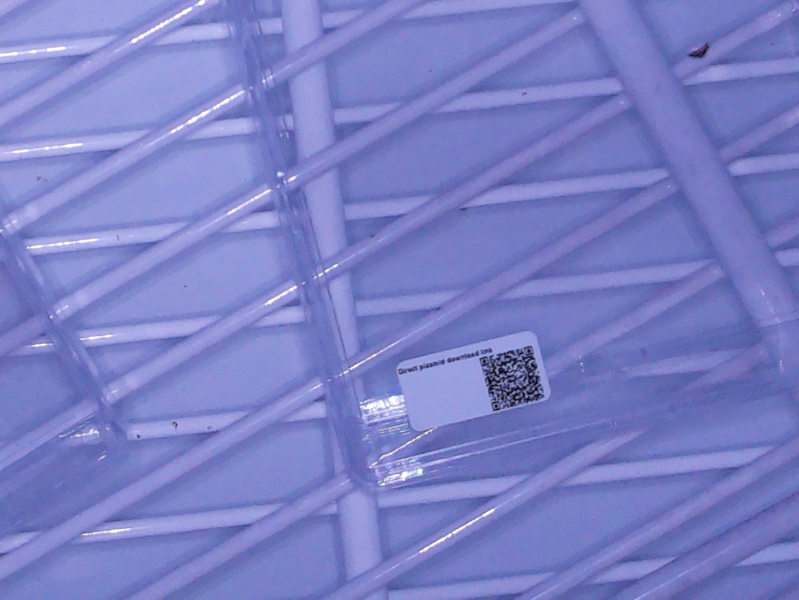plate: (216, 1, 799, 492), (1, 217, 132, 542)
